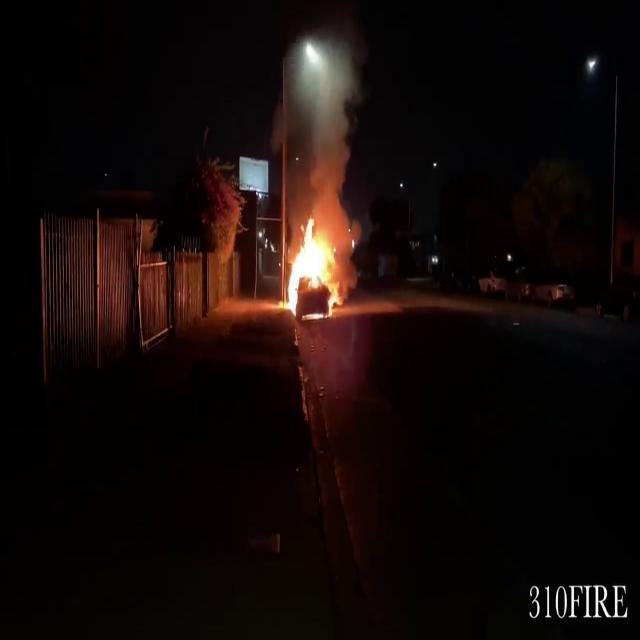Fire: (281, 212, 344, 320)
Smoke: (288, 36, 368, 220)
